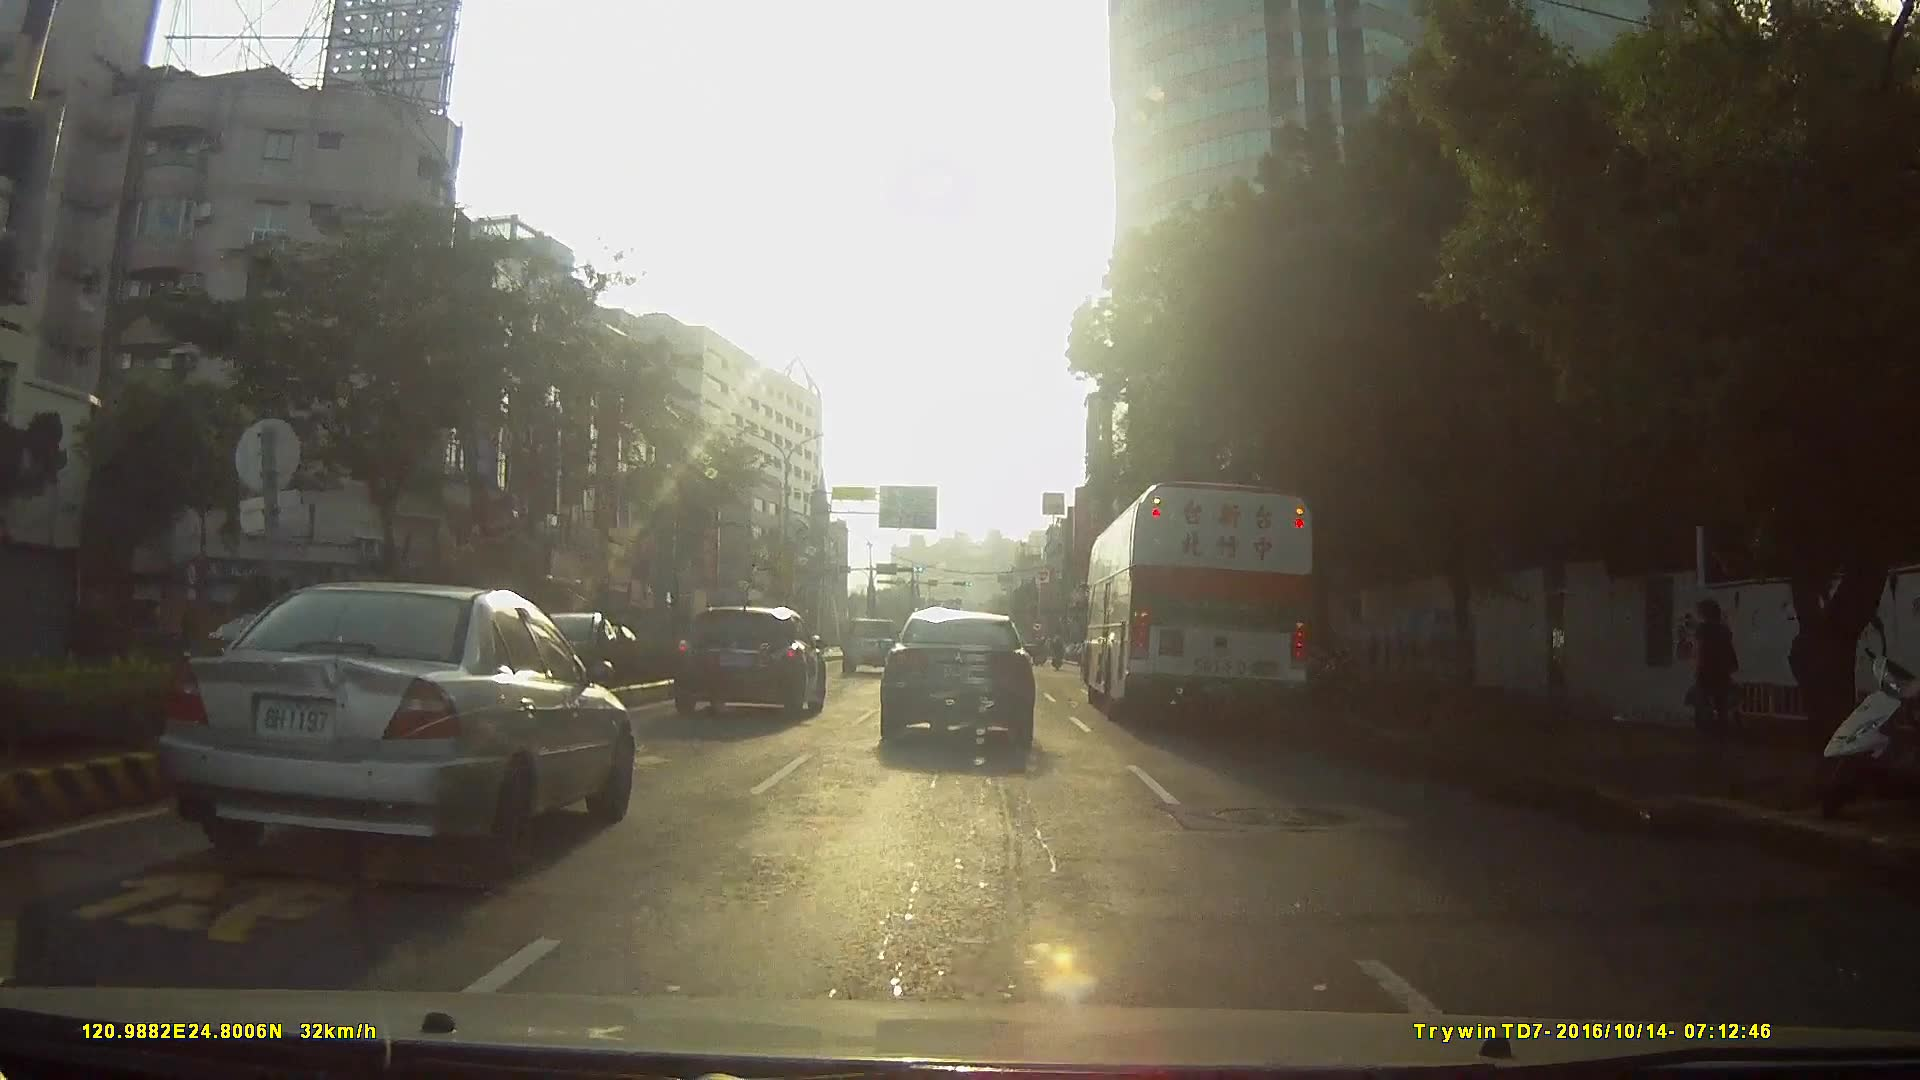pedestrian: (1688, 599, 1747, 755)
vehicle: (149, 579, 633, 884), (1086, 474, 1326, 727), (876, 608, 1037, 751), (672, 602, 827, 721), (841, 614, 902, 672)
